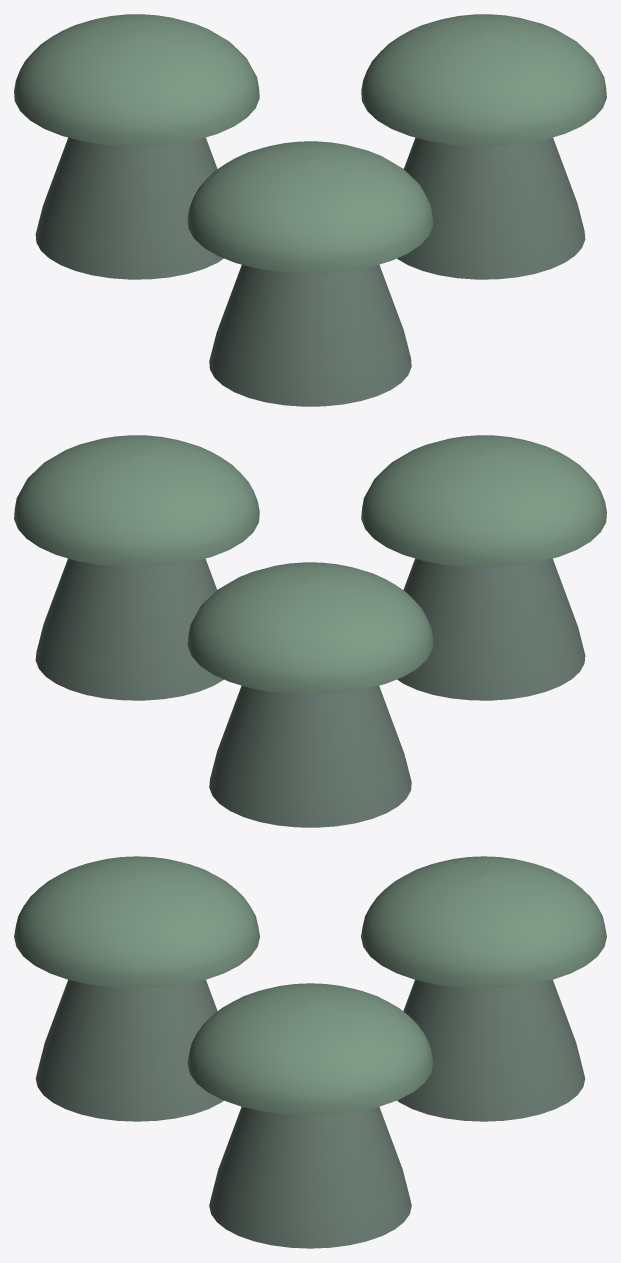
3 views of the same model, one above another, from view 1: azimuth 30°, elevation 25°; view 2: azimuth 150°, elevation 25°; view 3: azimuth 270°, elevation 25° (orthographic).
Visible parts, largest first — view 1: Mushroom collector cap.001, Mushroom collector cap.002, Mushroom collector cap, Mushroom support.002, Mushroom support, Mushroom support.001; view 2: Mushroom collector cap.002, Mushroom collector cap.001, Mushroom collector cap, Mushroom support.001, Mushroom support, Mushroom support.002; view 3: Mushroom collector cap, Mushroom collector cap.001, Mushroom collector cap.002, Mushroom support, Mushroom support.001, Mushroom support.002.
Boxes of the visible parts, bbox=[...] form: Mushroom collector cap.001: bbox=[14, 14, 259, 146]; Mushroom collector cap.002: bbox=[187, 141, 433, 273]; Mushroom collector cap: bbox=[361, 14, 606, 146]; Mushroom support.002: bbox=[209, 264, 411, 406]; Mushroom support: bbox=[397, 137, 585, 279]; Mushroom support.001: bbox=[35, 137, 223, 279]; Mushroom collector cap.002: bbox=[361, 435, 606, 567]; Mushroom collector cap.001: bbox=[187, 562, 433, 694]; Mushroom collector cap: bbox=[14, 435, 259, 567]; Mushroom support.001: bbox=[209, 685, 411, 827]; Mushroom support: bbox=[35, 558, 223, 700]; Mushroom support.002: bbox=[397, 558, 585, 700]; Mushroom collector cap: bbox=[187, 983, 433, 1115]; Mushroom collector cap.001: bbox=[361, 856, 606, 988]; Mushroom collector cap.002: bbox=[14, 856, 259, 988]; Mushroom support: bbox=[209, 1107, 411, 1248]; Mushroom support.001: bbox=[397, 980, 585, 1121]; Mushroom support.002: bbox=[35, 980, 223, 1121].
Size of the model in its own units: 2.27 by 0.93 by 2.46.
